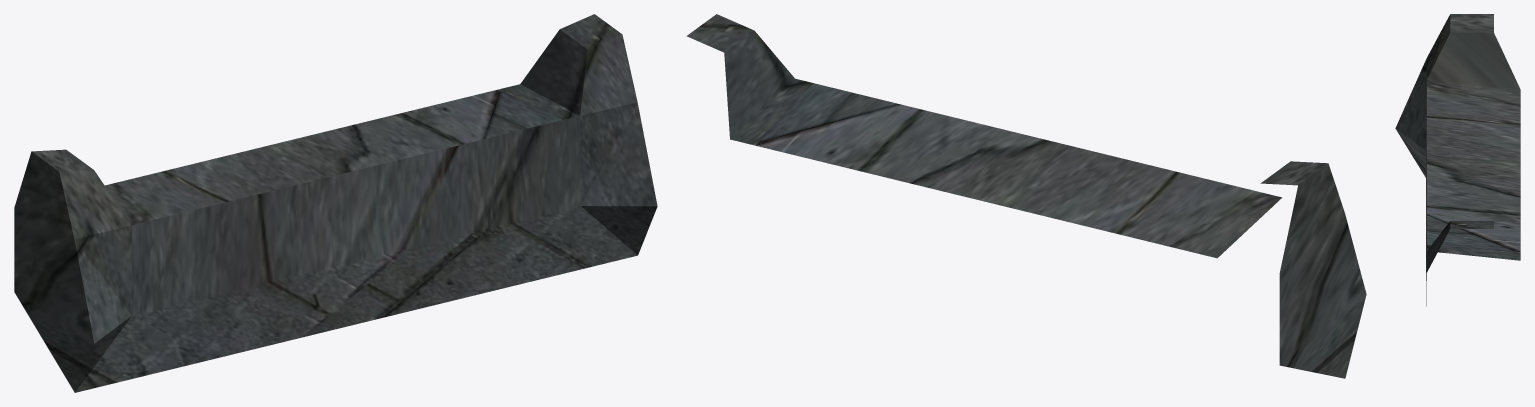
3 views of the same model, side by side, from view 1: azimuth 30°, elevation 25°; view 2: azimuth 150°, elevation 25°; view 3: azimuth 270°, elevation 25° (orthographic). The views are drawn at different scales.
Parts seen in each view (by area): view 1: model_Object05; view 2: model_Object05; view 3: model_Object05.
Part boxes in pixels (<box>): model_Object05: <box>14,14,657,392</box>; model_Object05: <box>686,14,1366,378</box>; model_Object05: <box>1395,14,1520,306</box>.
Size of the model in its own units: 4 by 1.42 by 0.9851.
Materials: 1 (1 with a texture image).
